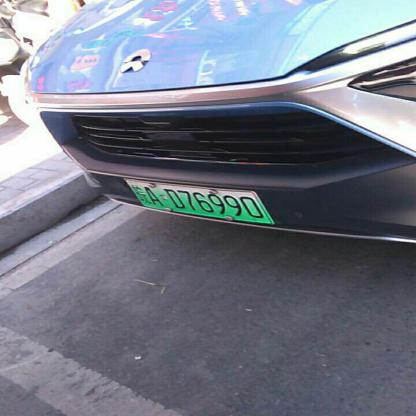lp: (124, 179, 272, 223)
